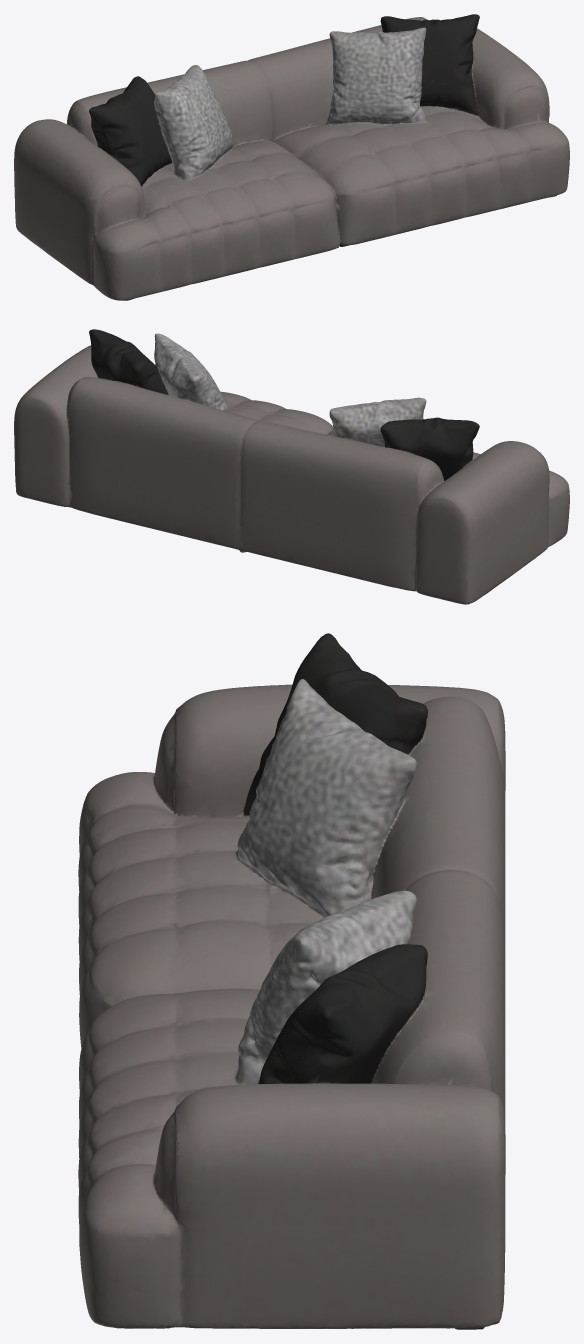
The model's file is item-2.glb.
The picture shows the model from 3 angles, top to bottom: view 1: azimuth 30°, elevation 25°; view 2: azimuth 150°, elevation 25°; view 3: azimuth 270°, elevation 25°; orthographic projection. The views are drawn at different scales.
Visible parts, largest first — view 1: geometry_0; view 2: geometry_0; view 3: geometry_0.
Part boxes in pixels (x1,y1,x2,y2): geometry_0: (14,14,569,300); geometry_0: (14,329,569,604); geometry_0: (78,633,505,1329).
Size of the model in its own units: 1 by 0.3129 by 0.3999.
1 material, 1 textured.
